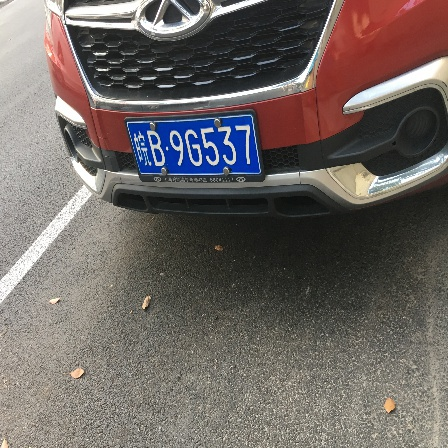plate: (124, 116, 267, 182)
